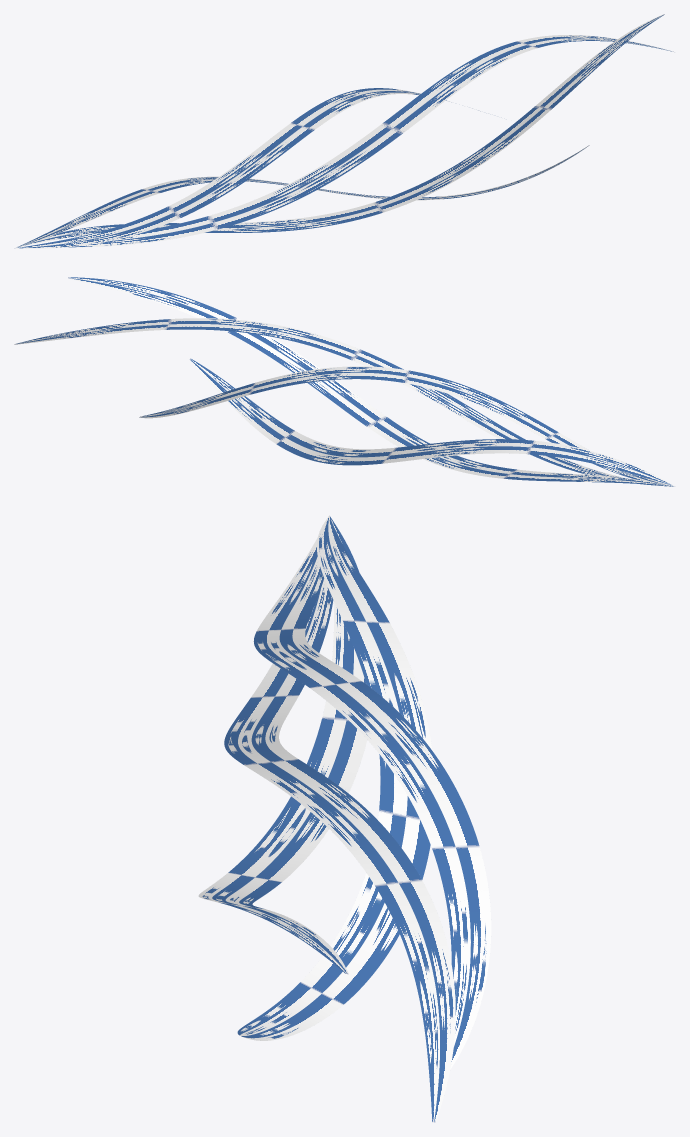
File: Rui_Web6.fbx
The picture shows the model from 3 angles, top to bottom: view 1: azimuth 30°, elevation 25°; view 2: azimuth 150°, elevation 25°; view 3: azimuth 270°, elevation 25°; orthographic projection. The views are drawn at different scales.
Visible parts, largest first — view 1: SM_e_DLC_Plc_P1007_AtkCmbW04_Web001; view 2: SM_e_DLC_Plc_P1007_AtkCmbW04_Web001; view 3: SM_e_DLC_Plc_P1007_AtkCmbW04_Web001.
Part boxes in pixels (box(x1,y1,x2,y2)): SM_e_DLC_Plc_P1007_AtkCmbW04_Web001: box(14, 14, 674, 248); SM_e_DLC_Plc_P1007_AtkCmbW04_Web001: box(14, 277, 675, 486); SM_e_DLC_Plc_P1007_AtkCmbW04_Web001: box(198, 515, 491, 1122).
Bounding box in the file's own units: 1000 × 176 × 199.
1 material, 1 textured.
